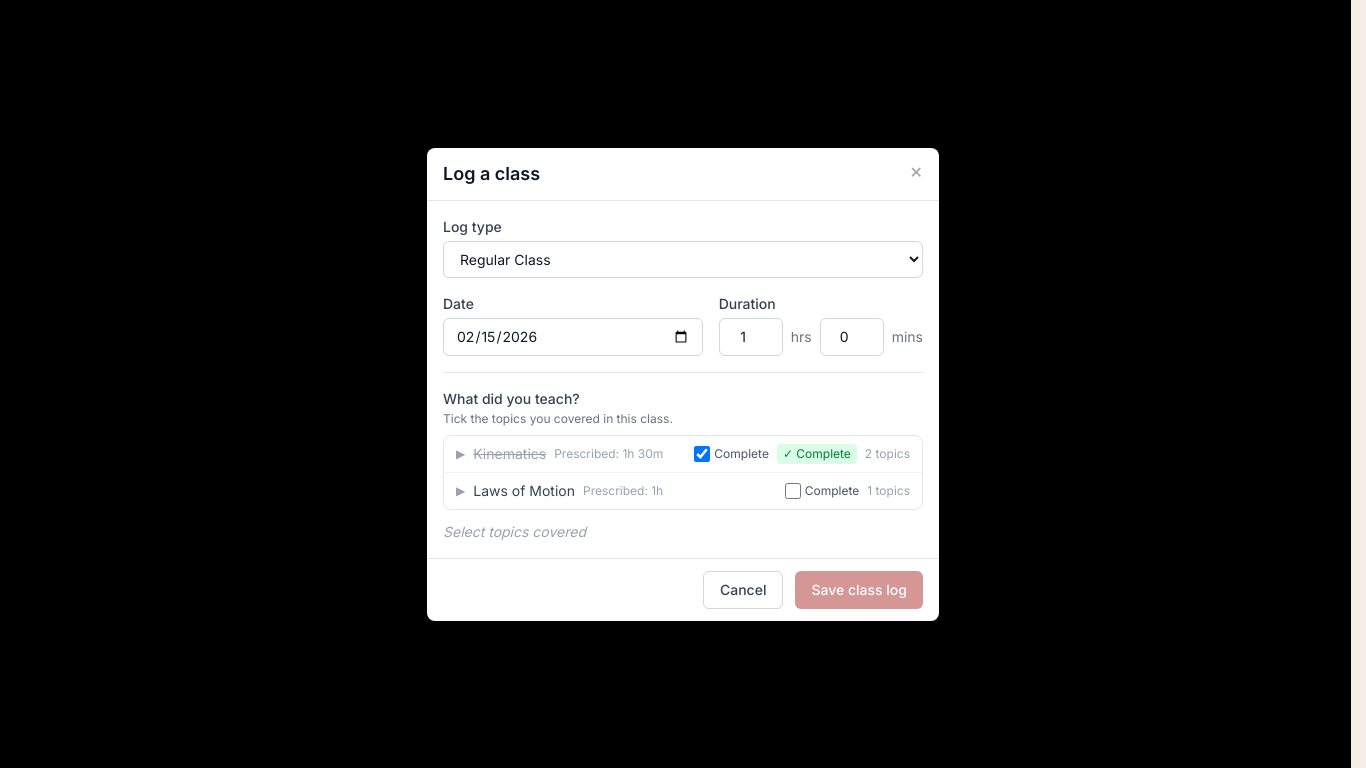
LogSessionModal › shows already covered and completed context with completion controls
Expected: the text "✓ Complete" is shown, [777, 444, 857, 464]
Step 1. Click the text "Kinematics" → (510, 454), box [473, 444, 546, 464]
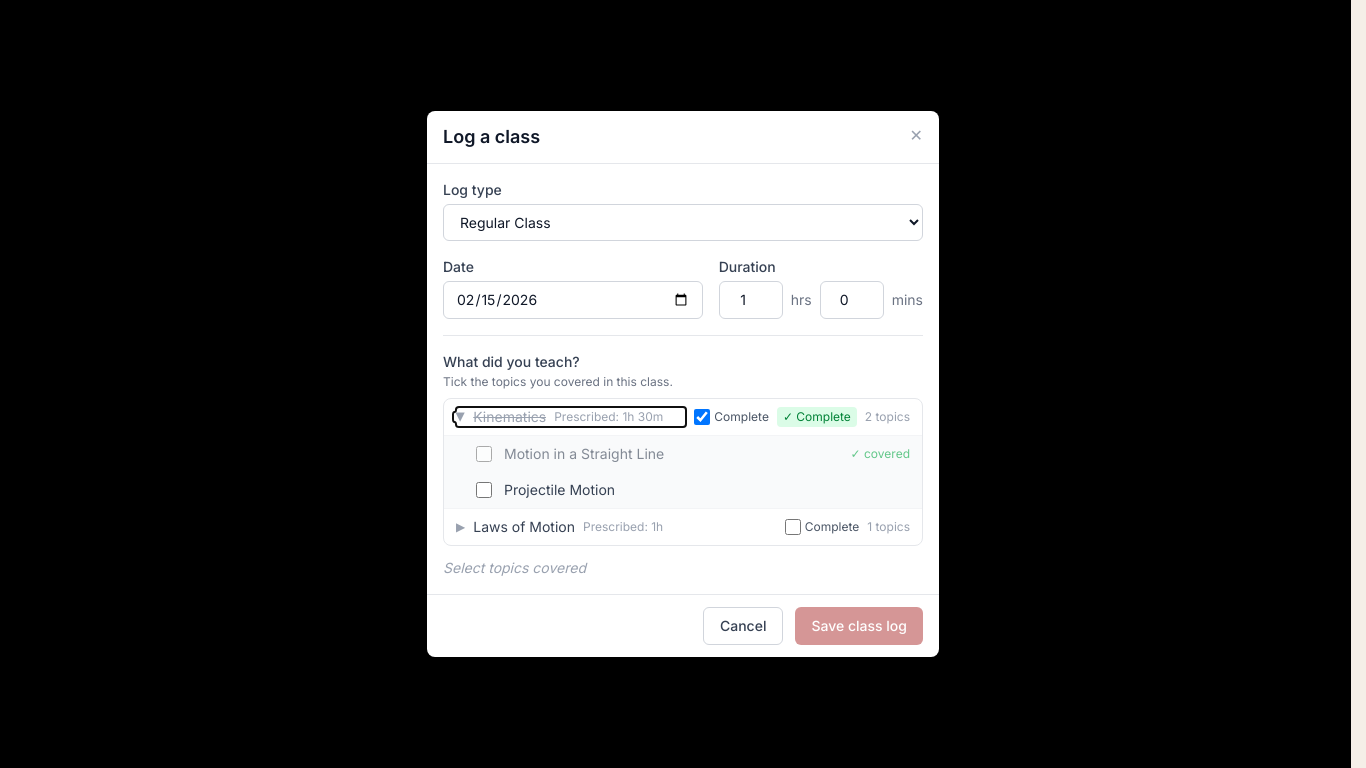
Result: the text "✓ covered" is shown at [851, 446, 910, 462]
Result: the number of checkboxes is 4 at [694, 409, 710, 425]; [476, 446, 492, 462]; [476, 482, 492, 498]; [785, 519, 801, 535]
